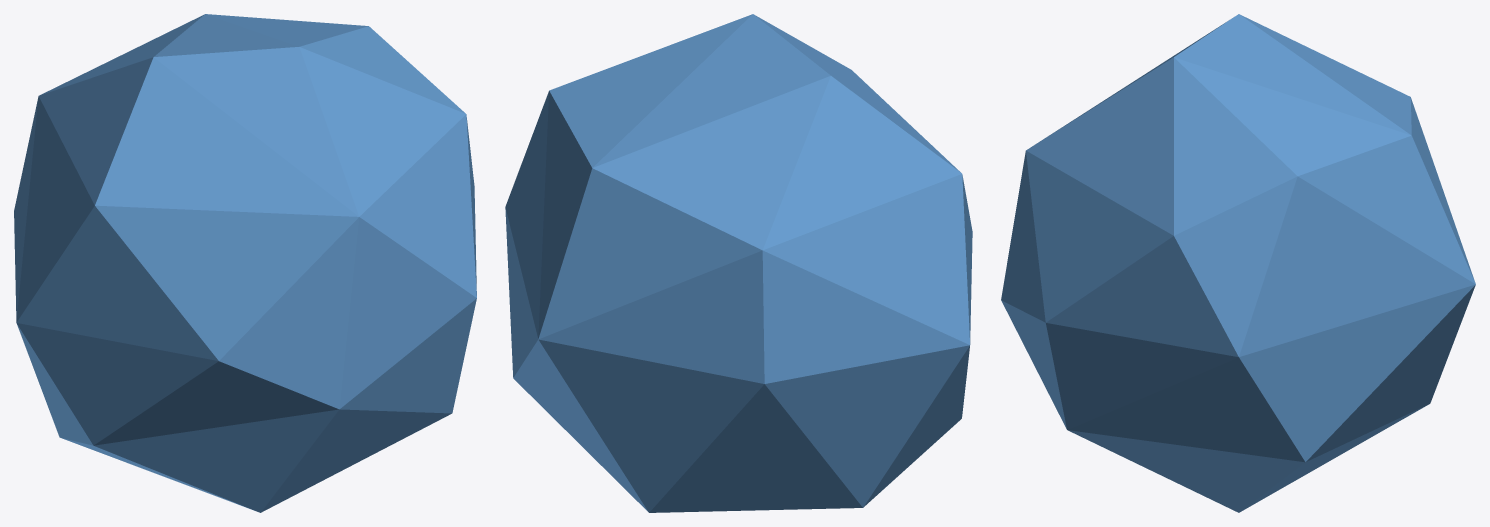
File: SphereColor.fbx
3 renders of one model, left to right at view 1: azimuth 30°, elevation 25°; view 2: azimuth 150°, elevation 25°; view 3: azimuth 270°, elevation 25°, orthographic. The views are drawn at different scales.
Parts seen in each view (by area): view 1: Icosphere; view 2: Icosphere; view 3: Icosphere.
Boxes of the visible parts, bbox=[...] form: Icosphere: bbox=[14, 14, 476, 512]; Icosphere: bbox=[505, 14, 972, 512]; Icosphere: bbox=[1001, 14, 1475, 512].
Size of the model in its own units: 209 by 199 by 199.
